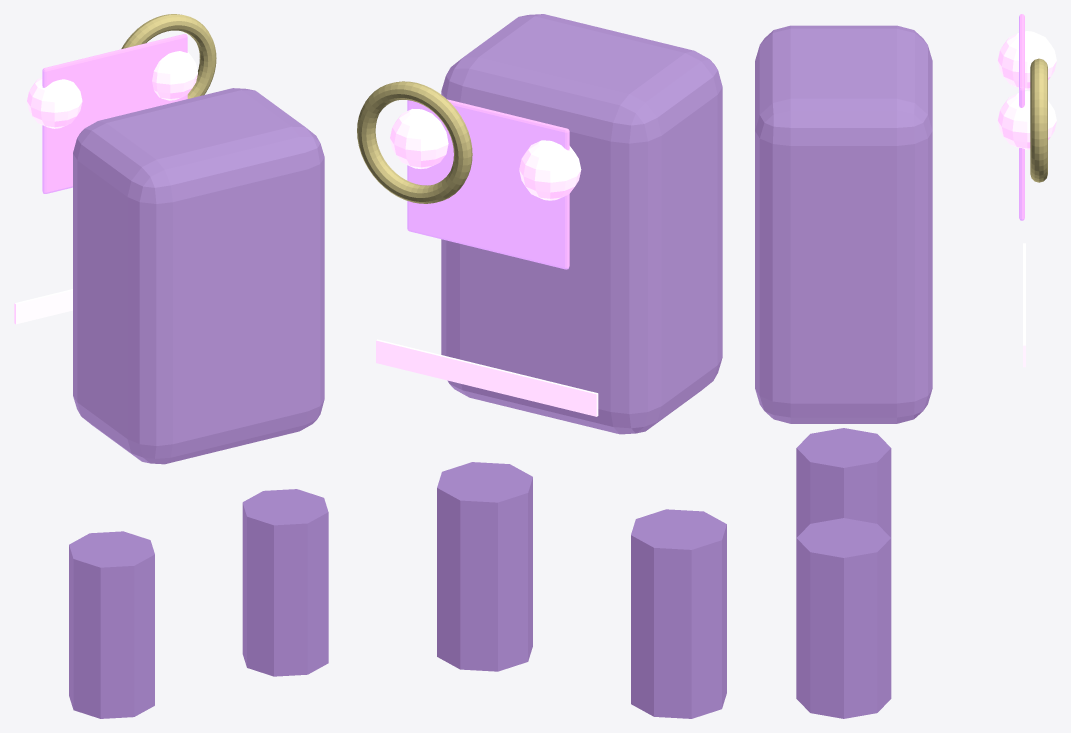
File: sigmoid.glb
3 views of the same model, side by side, from view 1: azimuth 30°, elevation 25°; view 2: azimuth 150°, elevation 25°; view 3: azimuth 270°, elevation 25° (orthographic). The views are drawn at different scales.
Parts seen in each view (by area): view 1: sigmoid; view 2: sigmoid; view 3: sigmoid.
Part boxes in pixels (x1,y1,x2,y2): sigmoid: [14, 14, 328, 718]; sigmoid: [357, 14, 726, 718]; sigmoid: [755, 14, 1056, 718].
Size of the model in its own units: 0.52 by 1.15 by 0.51.
